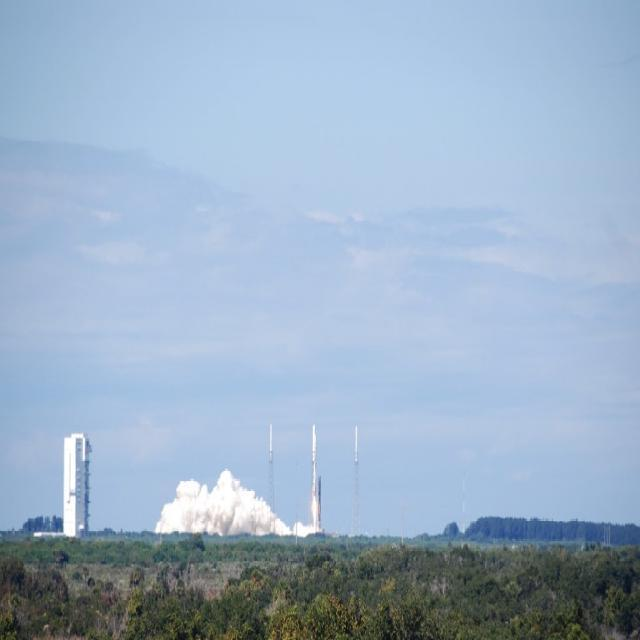missile: (310, 424, 319, 464)
